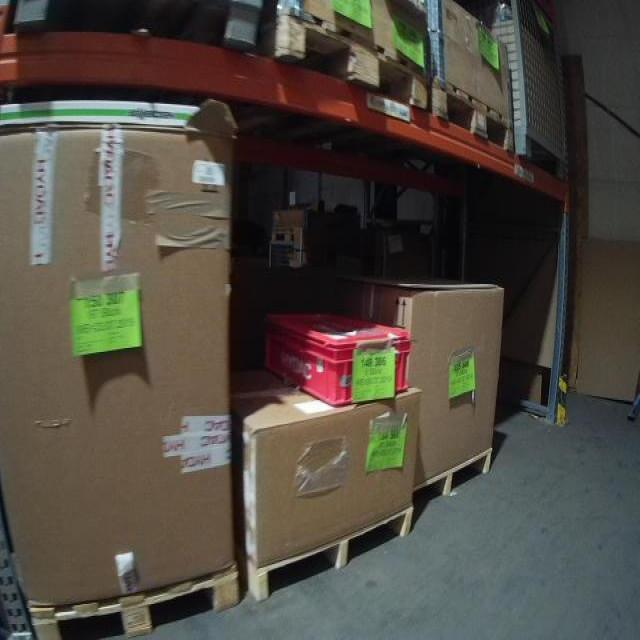pallet: (244, 498, 412, 611), (271, 5, 430, 121), (30, 557, 237, 640), (430, 79, 516, 157), (412, 440, 496, 514)
small_load_carrier: (256, 298, 414, 406)
stillage: (494, 4, 571, 171)
